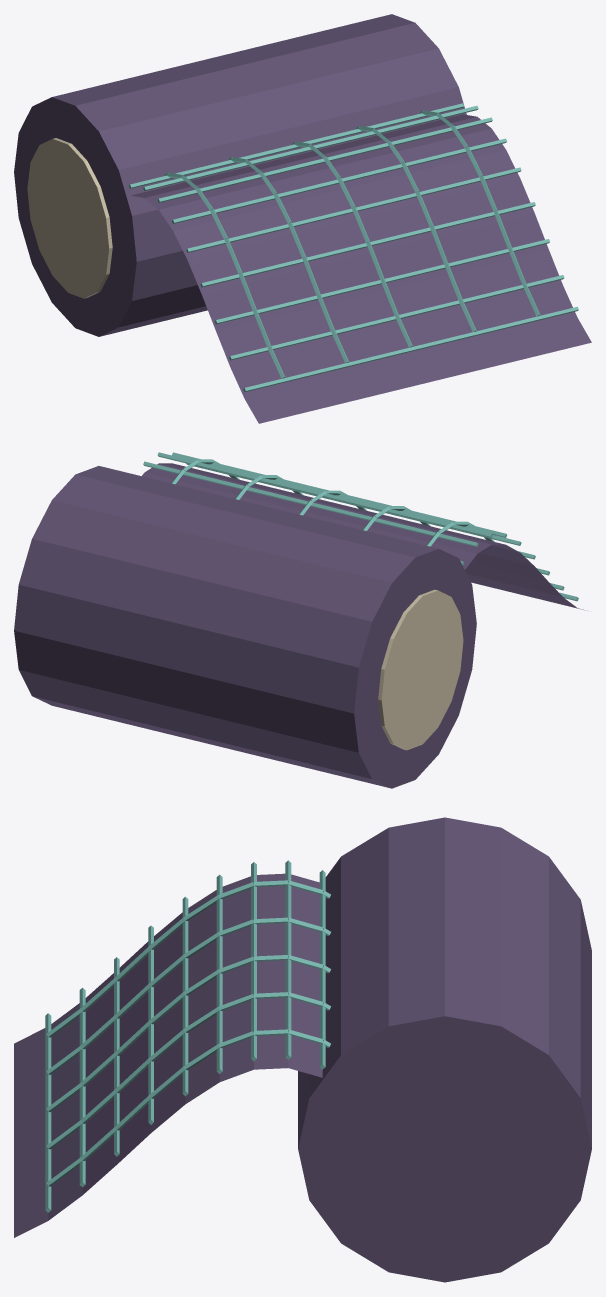
File: space_scene_nano_cloth.glb
3 views of the same model, one above another, from view 1: azimuth 30°, elevation 25°; view 2: azimuth 150°, elevation 25°; view 3: azimuth 270°, elevation 25° (orthographic). The views are drawn at different scales.
Visible parts, largest first — view 1: FixedDetails; view 2: FixedDetails; view 3: FixedDetails.
Part boxes in pixels (x1,y1,x2,y2): FixedDetails: (14, 14, 591, 423); FixedDetails: (14, 452, 587, 788); FixedDetails: (14, 817, 591, 1282).
Size of the model in its own units: 0.49 by 0.3 by 0.59.
